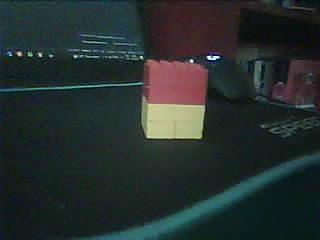lego: (141, 58, 208, 138)
